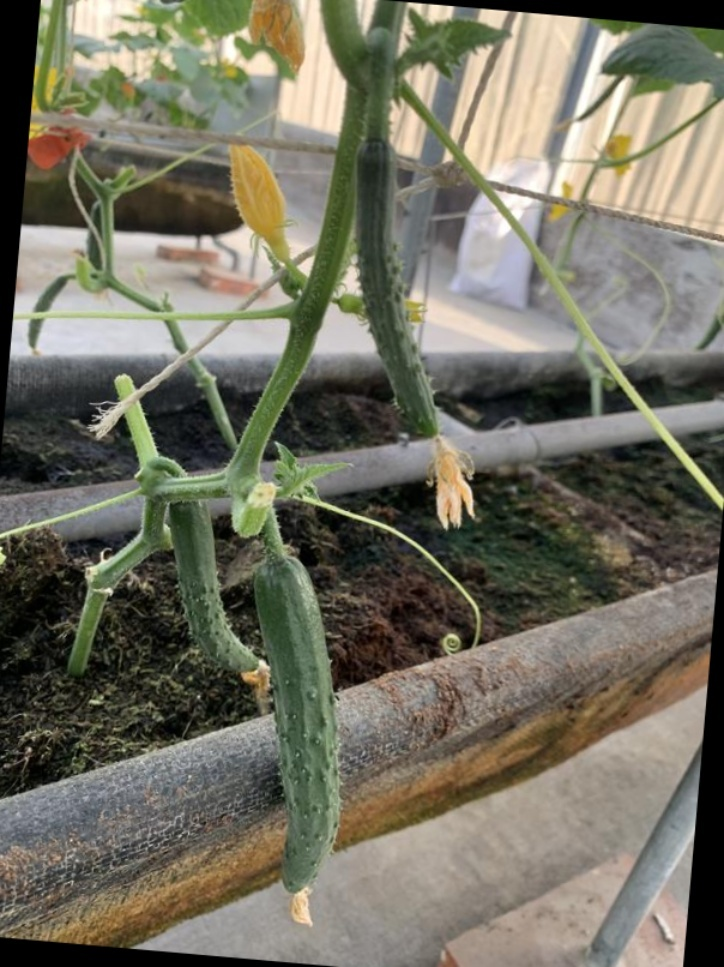growth: (340, 136, 493, 536)
mature: (237, 550, 348, 908)
